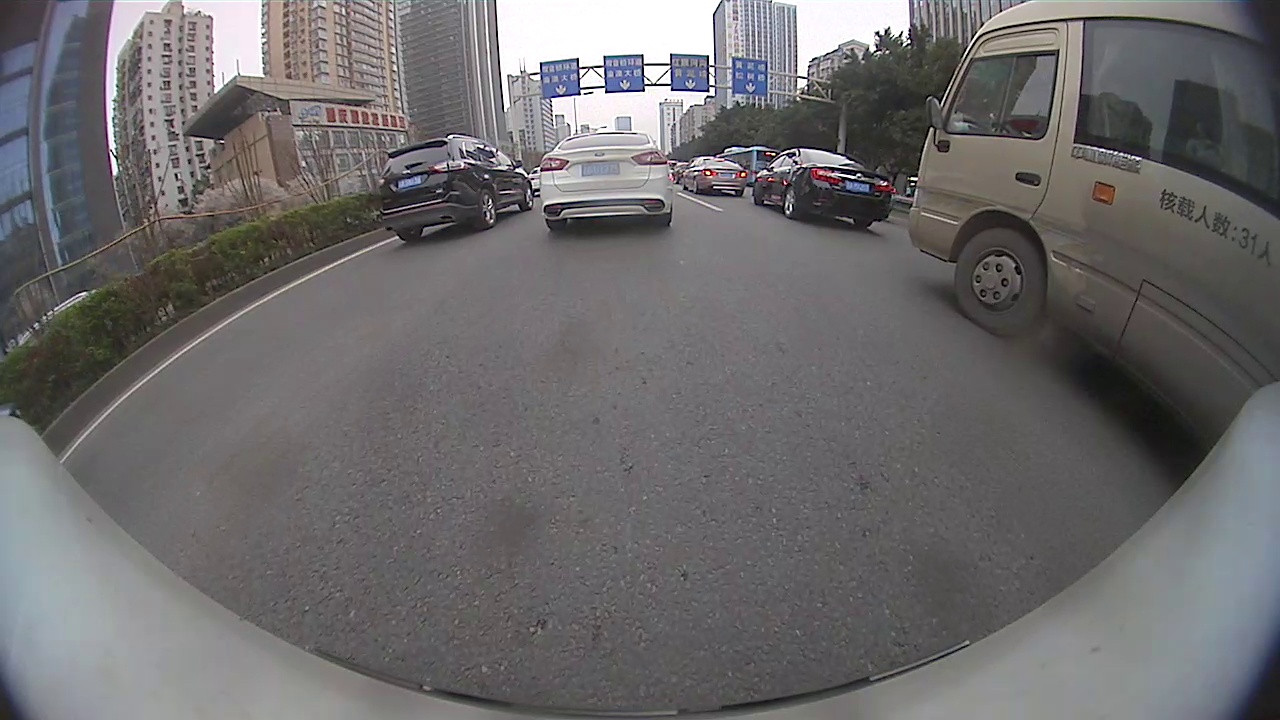bus: (906, 1, 1279, 450)
car: (381, 131, 532, 239), (541, 131, 675, 232), (751, 145, 895, 230), (681, 158, 749, 196), (531, 169, 541, 193)
front: (953, 226, 1045, 339), (523, 181, 534, 213)
rear: (478, 189, 497, 229), (781, 184, 799, 220)
